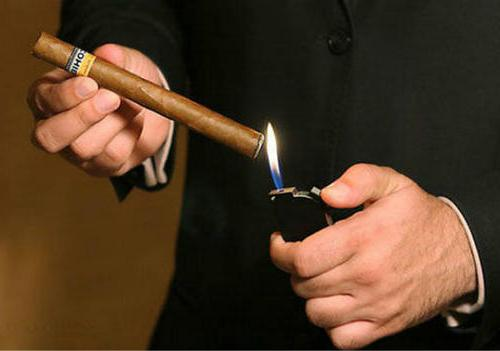fire: (264, 122, 289, 196)
